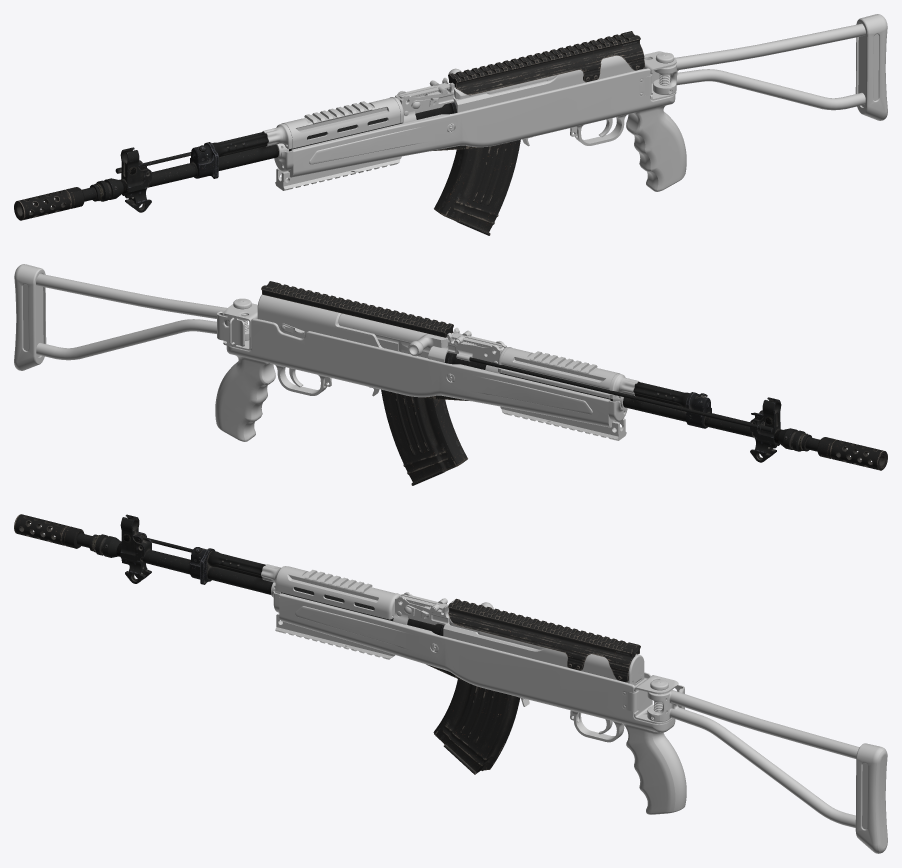
File: SKS_Default_1.0.fbx
3 views of the same model, one above another, from view 1: azimuth 30°, elevation 25°; view 2: azimuth 150°, elevation 25°; view 3: azimuth 330°, elevation 25° (orthographic).
Parts seen in each view (by area): view 1: Body 1, Barrel, Rail, Body 2, Magazine 1, Muzzle, Front Grip, Body 3; view 2: Body 1, Barrel, Body 2, Magazine 1, Rail, Body 3, Muzzle, Front Grip; view 3: Body 1, Barrel, Body 2, Rail, Magazine 1, Muzzle, Front Grip.
Part boxes in pixels (box(x1,y1,x2,y2)): Body 1: box(281, 14, 887, 191); Barrel: box(81, 102, 457, 212); Rail: box(448, 31, 644, 95); Body 2: box(262, 51, 644, 171); Magazine 1: box(433, 139, 520, 235); Muzzle: box(14, 187, 84, 220); Front Grip: box(275, 156, 401, 190); Body 3: box(448, 68, 612, 146); Body 1: box(14, 264, 619, 441); Barrel: box(444, 352, 819, 462); Body 2: box(257, 294, 639, 421); Magazine 1: box(381, 389, 468, 485); Rail: box(261, 281, 453, 337); Body 3: box(280, 313, 447, 396); Muzzle: box(817, 437, 887, 470); Front Grip: box(500, 406, 626, 440); Body 1: box(278, 566, 887, 853); Barrel: box(77, 514, 444, 635); Body 2: box(261, 564, 644, 742); Rail: box(448, 598, 640, 682); Magazine 1: box(426, 664, 520, 774); Muzzle: box(14, 514, 84, 548); Front Grip: box(275, 613, 395, 659).
Size of the model in its own units: 10629 by 1963 by 561.
